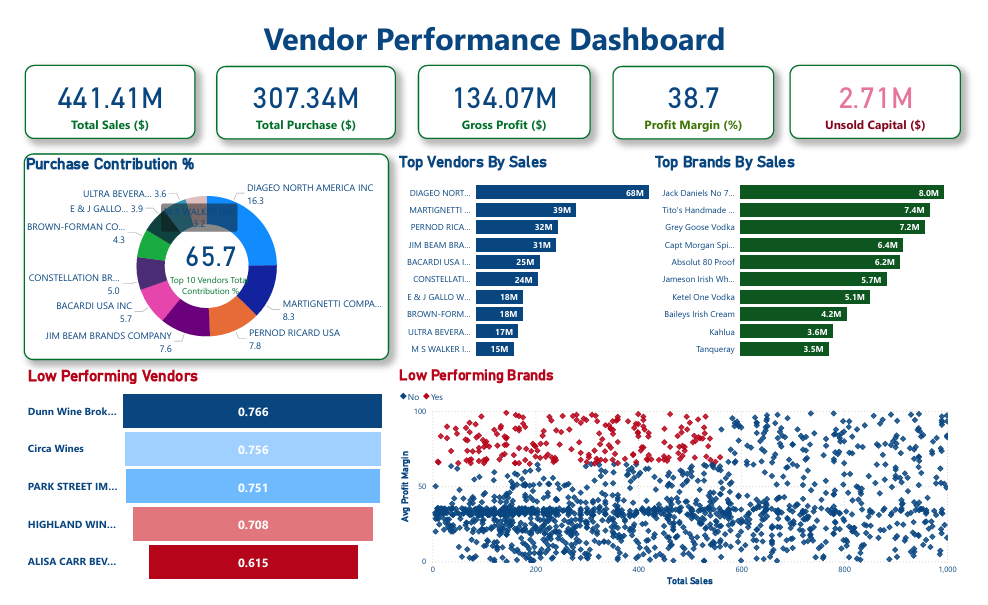

This screenshot's page, from the dashboard's own definition file:
{"tool":"powerbi","page":{"name":"Page 1","canvas":[1280,720],"ordinal":0},"visuals":[{"type":"card","fields":{"Values":["Sum(vendor_sales_summary.TotalSalesDollars)"]},"box":[0,61.6,220.9,116.3],"z":0},{"type":"card","fields":{"Values":["Sum(vendor_sales_summary.TotalPurchaseDollars)"]},"box":[253.5,61.6,220.9,117.4],"z":1000},{"type":"card","fields":{"Values":["Sum(vendor_sales_summary.GrossProfit)"]},"box":[555.8,50,220.9,116.3],"z":2000},{"type":"card","fields":{"Values":["Median(vendor_sales_summary.ProfitMargin)"]},"box":[812.8,50,220.9,116.3],"z":3000},{"type":"card","fields":{"Values":["Count(vendor_sales_summary.UnsoldCapital)"]},"box":[1059.3,50,220.9,116.3],"z":4000},{"type":"donutChart","title":"Purchase Contribution%","fields":{"Y":["Sum(PurchaseContibution.TotalPurchaseDollars)"],"Category":["PurchaseContibution.VendorName"]},"box":[0,190.7,465.1,276.7],"z":5000},{"type":"barChart","title":"Top Vendors BY Sales","fields":{"Category":["vendor_sales_summary.VendorName"],"Y":["Sum(vendor_sales_summary.TotalSalesDollars)"]},"box":[486.1,179.6,386.3,250.9],"z":6000},{"type":"barChart","title":"Top Brands BY Sales","fields":{"Category":["vendor_sales_summary.Description"],"Y":["Sum(vendor_sales_summary.TotalSalesDollars)"]},"box":[893.7,179.6,386.3,250.9],"z":7000},{"type":"funnel","title":"Low Performing Vendors","fields":{"Category":["LowTurnoverVendor.VendorName"],"Y":["Avg(LowTurnoverVendor.AvgStockTurOver)"]},"box":[0,477.5,464.7,242.3],"z":8000},{"type":"scatterChart","title":"Low Performing Brands","fields":{"Category":["BrandPerformance.Description"],"X":["Sum(BrandPerformance.TotalSales)"],"Y":["Avg(BrandPerformance.AvgProfitMargin)"],"Series":["BrandPerformance.TargetBrand"]},"box":[486.1,450.4,793.9,269.4],"z":9000},{"type":"textbox","box":[0,0,1259.3,68.6],"z":10000}]}

Visuals, with their boxes on the page's 1280x720 design canvas (x1, y1, x2, y2). These are canvas units, not pixel positions in the 988x605 screenshot, which may show the page scaled, cropped or inside an application window:
card - Sum(vendor_sales_summary.TotalSalesDollars): x1=0 y1=62 x2=221 y2=178
card - Sum(vendor_sales_summary.TotalPurchaseDollars): x1=254 y1=62 x2=474 y2=179
card - Sum(vendor_sales_summary.GrossProfit): x1=556 y1=50 x2=777 y2=166
card - Median(vendor_sales_summary.ProfitMargin): x1=813 y1=50 x2=1034 y2=166
card - Count(vendor_sales_summary.UnsoldCapital): x1=1059 y1=50 x2=1280 y2=166
"Purchase Contribution%" donutChart: x1=0 y1=191 x2=465 y2=467
"Top Vendors BY Sales" barChart: x1=486 y1=180 x2=872 y2=430
"Top Brands BY Sales" barChart: x1=894 y1=180 x2=1280 y2=430
"Low Performing Vendors" funnel: x1=0 y1=478 x2=465 y2=720
"Low Performing Brands" scatterChart: x1=486 y1=450 x2=1280 y2=720
textbox: x1=0 y1=0 x2=1259 y2=69
